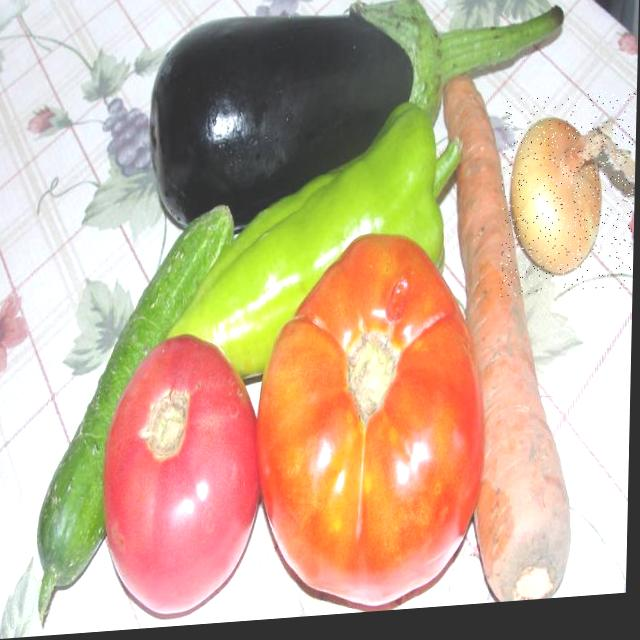Onion: (500, 89, 637, 297)
